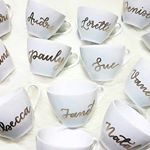cups: (45, 79, 106, 130), (98, 96, 150, 148), (1, 82, 43, 144), (22, 36, 82, 78), (77, 43, 133, 84), (75, 3, 124, 44), (24, 1, 73, 41)
